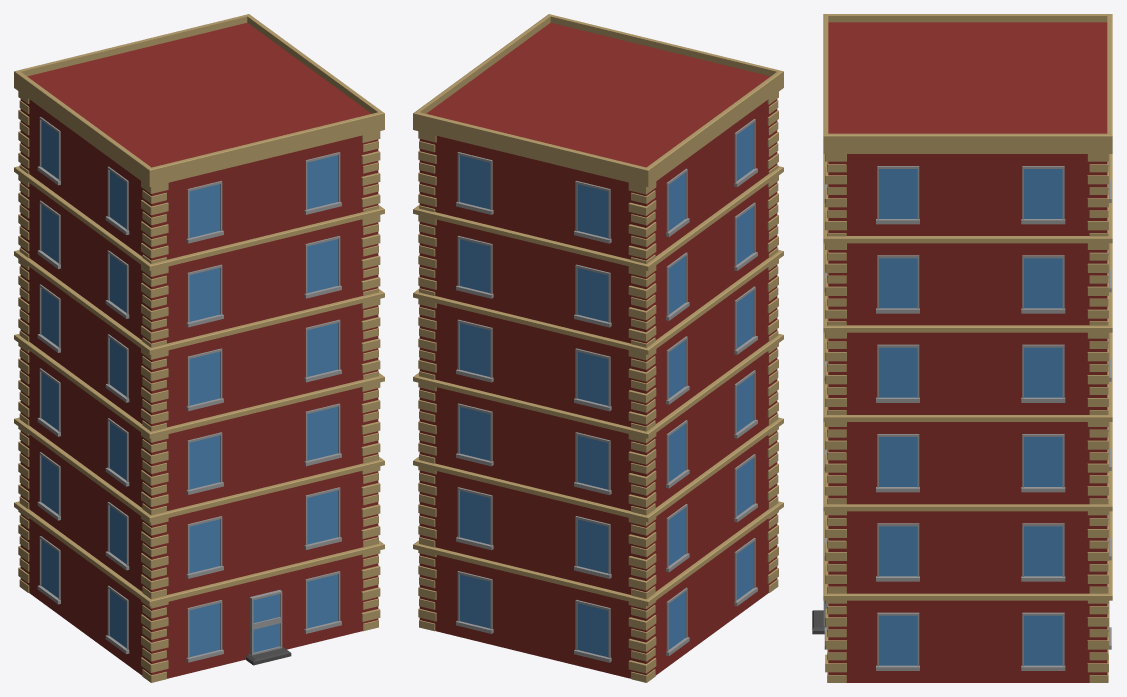
Rendered from GebouwRoodZonderTrap.fbx.
3 views of the same model, side by side, from view 1: azimuth 30°, elevation 25°; view 2: azimuth 150°, elevation 25°; view 3: azimuth 270°, elevation 25° (orthographic). The views are drawn at different scales.
Parts seen in each view (by area): view 1: gebouwRoodZonderTrap; view 2: gebouwRoodZonderTrap; view 3: gebouwRoodZonderTrap.
Boxes of the visible parts, box(x1,y1,x2,y2) form: gebouwRoodZonderTrap: box(14, 14, 384, 682); gebouwRoodZonderTrap: box(413, 14, 783, 682); gebouwRoodZonderTrap: box(812, 14, 1112, 682).
Bounding box in the file's own units: 622 × 1304 × 645.
